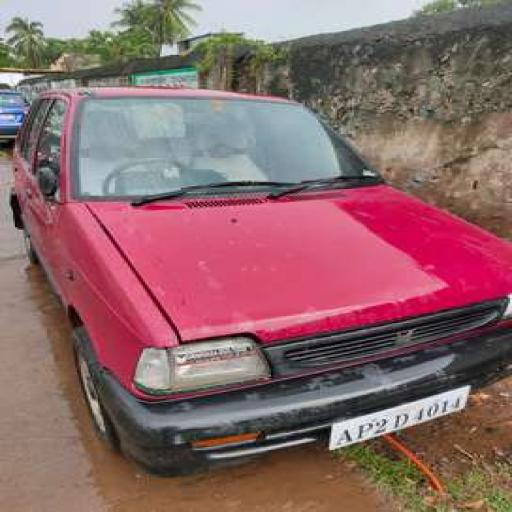license_plate`: (327, 384, 467, 450)
